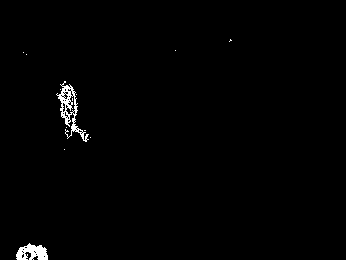person: (58, 79, 88, 146)
